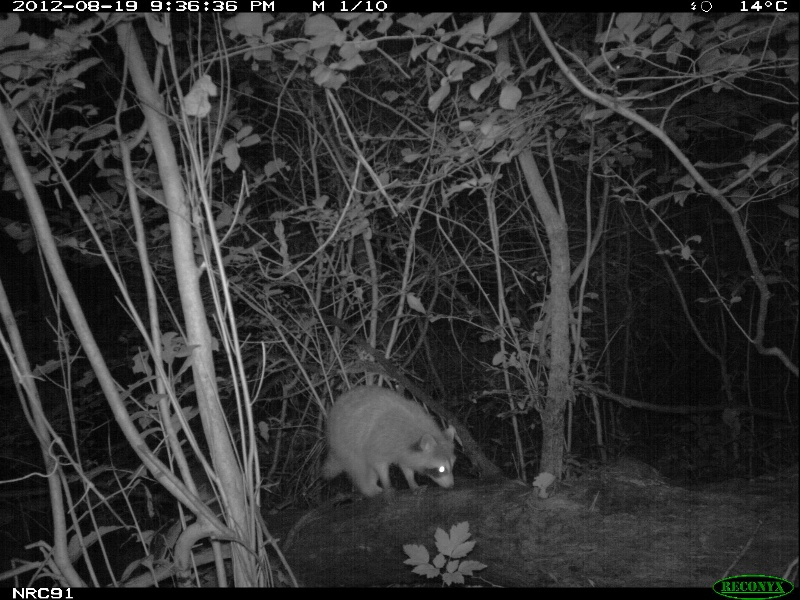raccoon: (317, 384, 458, 496)
